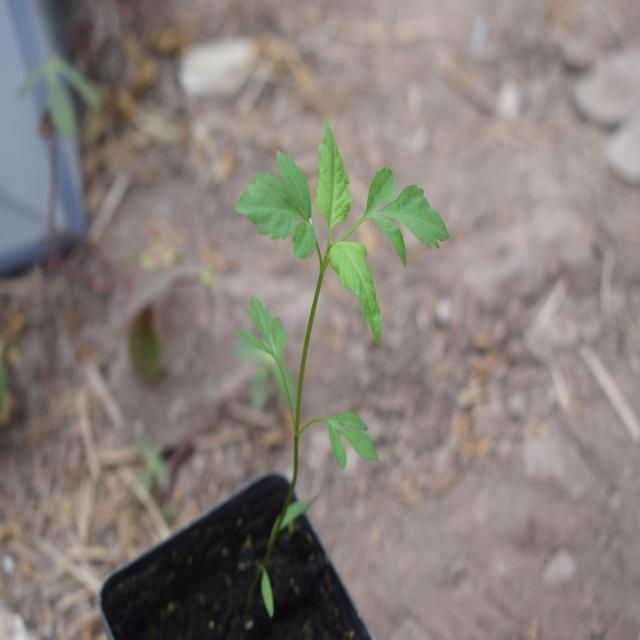Bidens pilosa: (224, 98, 486, 522)
